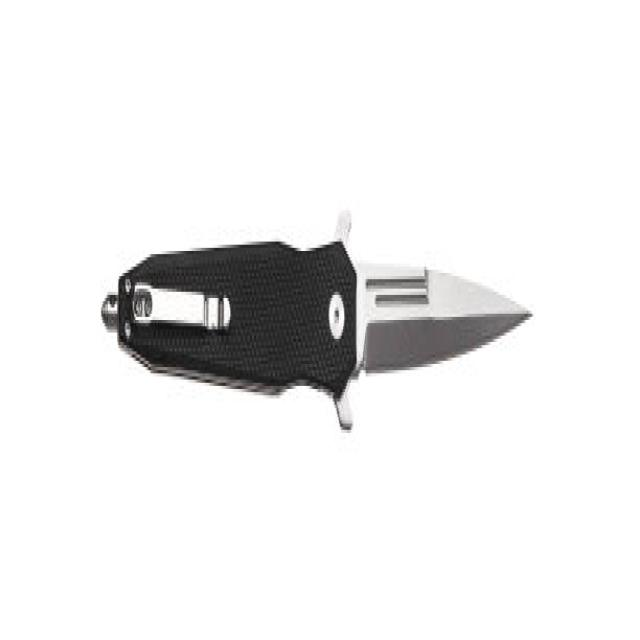knife: (98, 210, 536, 439)
